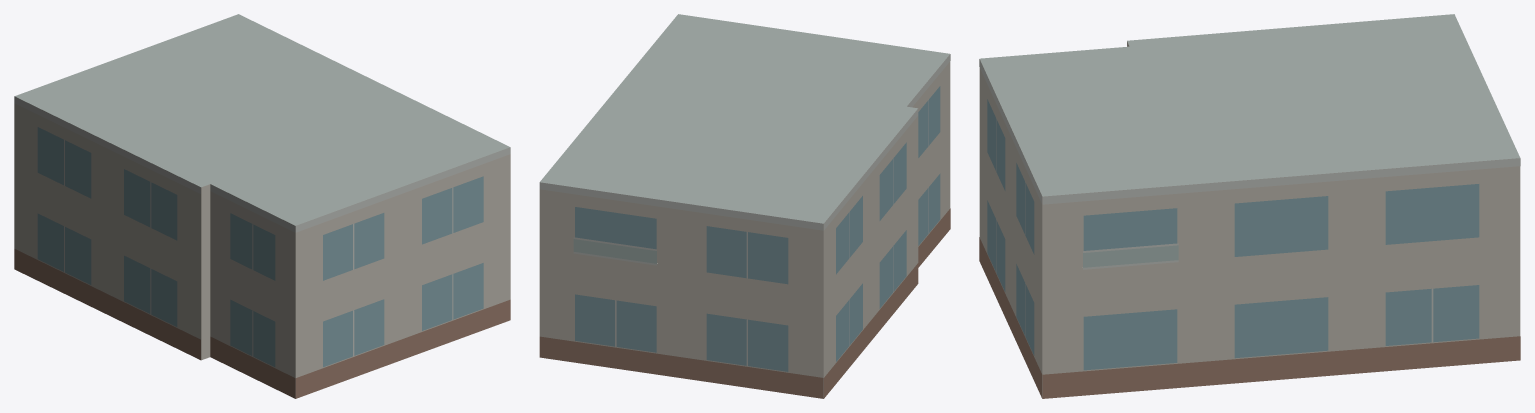
The model's file is survey-upis-32700503.glb.
3 renders of one model, left to right at view 1: azimuth 30°, elevation 25°; view 2: azimuth 150°, elevation 25°; view 3: azimuth 270°, elevation 25°, orthographic. The views are drawn at different scales.
Parts seen in each view (by area): view 1: survey-upis-32700503.tmp; view 2: survey-upis-32700503.tmp; view 3: survey-upis-32700503.tmp.
Boxes of the visible parts, <box> form: survey-upis-32700503.tmp: <box>14,14,510,398</box>; survey-upis-32700503.tmp: <box>539,14,950,398</box>; survey-upis-32700503.tmp: <box>979,14,1520,398</box>.
Size of the model in its own units: 11.82 by 6.1 by 14.8.
